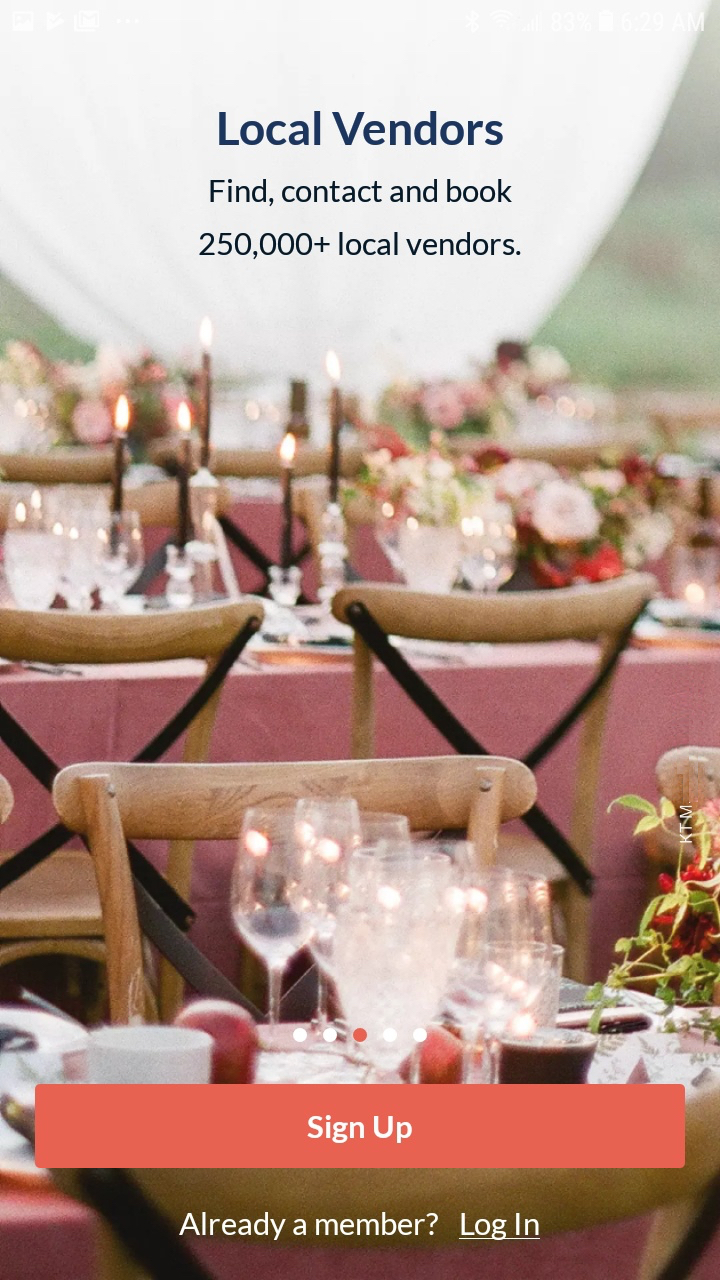BackgroundImage: (1, 36, 720, 1280)
PageIndicator: (292, 1026, 428, 1043)
Text: (219, 111, 504, 147), (199, 232, 522, 261), (210, 179, 513, 208), (178, 1211, 439, 1241), (458, 1212, 541, 1241)
TextButton: (35, 1084, 686, 1169)
UpperTaskBar: (1, 1, 720, 37)
